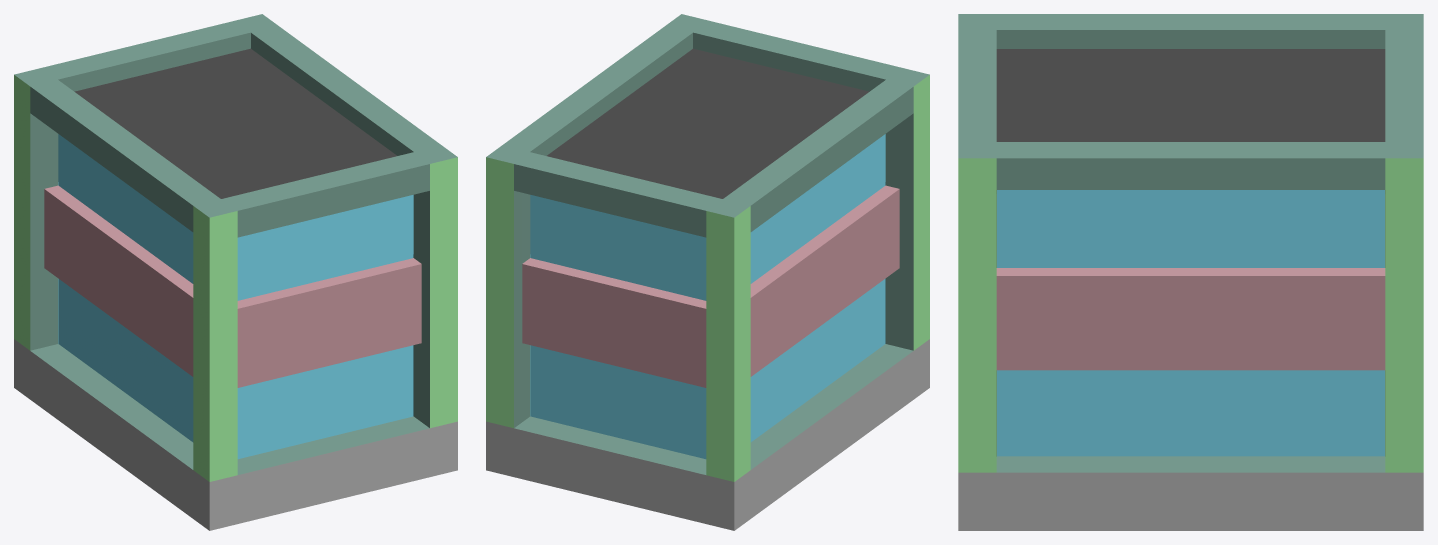
Rendered from Building_02.fbx.
3 renders of one model, left to right at view 1: azimuth 30°, elevation 25°; view 2: azimuth 150°, elevation 25°; view 3: azimuth 270°, elevation 25°, orthographic. The views are drawn at different scales.
Visible parts, largest first — view 1: Building_03; view 2: Building_03; view 3: Building_03.
Part boxes in pixels (x1,y1,x2,y2): Building_03: (14, 14, 457, 530); Building_03: (486, 14, 929, 530); Building_03: (958, 14, 1423, 530).
Bounding box in the file's own units: 1685 × 2031 × 2298.
